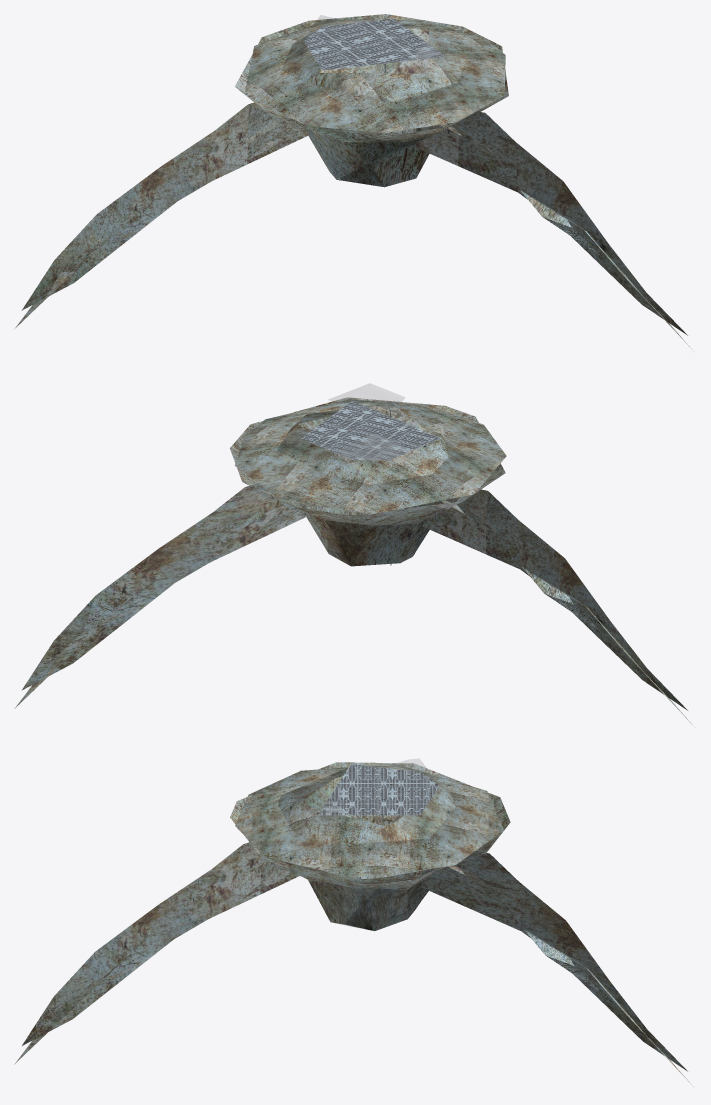
File: home_lod2.FBX
3 views of the same model, one above another, from view 1: azimuth 30°, elevation 25°; view 2: azimuth 150°, elevation 25°; view 3: azimuth 270°, elevation 25° (orthographic). The views are drawn at different scales.
Parts seen in each view (by area): view 1: upcirs, wing08, wing010, Object, Cylinder001, jgjkj5664; view 2: upcirs, wing011, wing08, Object, Cylinder001, jgjkj5664; view 3: upcirs, wing010, wing011, Object, Cylinder001, jgjkj5664.
Part boxes in pixels (x1=…): upcirs: x1=244, y1=19, x2=505, y2=133; wing08: x1=15, y1=101, x2=308, y2=328; wing010: x1=416, y1=111, x2=694, y2=352; Object: x1=235, y1=14, x2=508, y2=187; Cylinder001: x1=303, y1=18, x2=445, y2=70; jgjkj5664: x1=299, y1=15, x2=449, y2=75; upcirs: x1=234, y1=399, x2=506, y2=514; wing011: x1=14, y1=483, x2=307, y2=708; wing08: x1=420, y1=489, x2=694, y2=727; Object: x1=230, y1=397, x2=505, y2=566; Cylinder001: x1=301, y1=400, x2=440, y2=460; jgjkj5664: x1=327, y1=384, x2=423, y2=463; upcirs: x1=235, y1=763, x2=503, y2=877; wing010: x1=14, y1=842, x2=300, y2=1064; wing011: x1=421, y1=851, x2=693, y2=1086; Object: x1=230, y1=762, x2=510, y2=930; Cylinder001: x1=318, y1=764, x2=438, y2=815; jgjkj5664: x1=297, y1=759, x2=441, y2=820.
Bounding box in the file's own units: 211 × 86.18 × 236.
7 materials, 3 textured.
